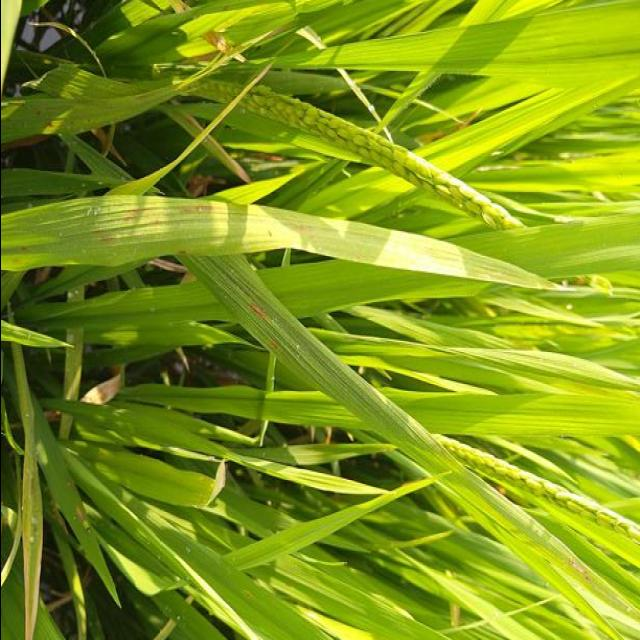Leaf Streak: (0, 192, 541, 285), (246, 301, 282, 358), (554, 550, 595, 580)
